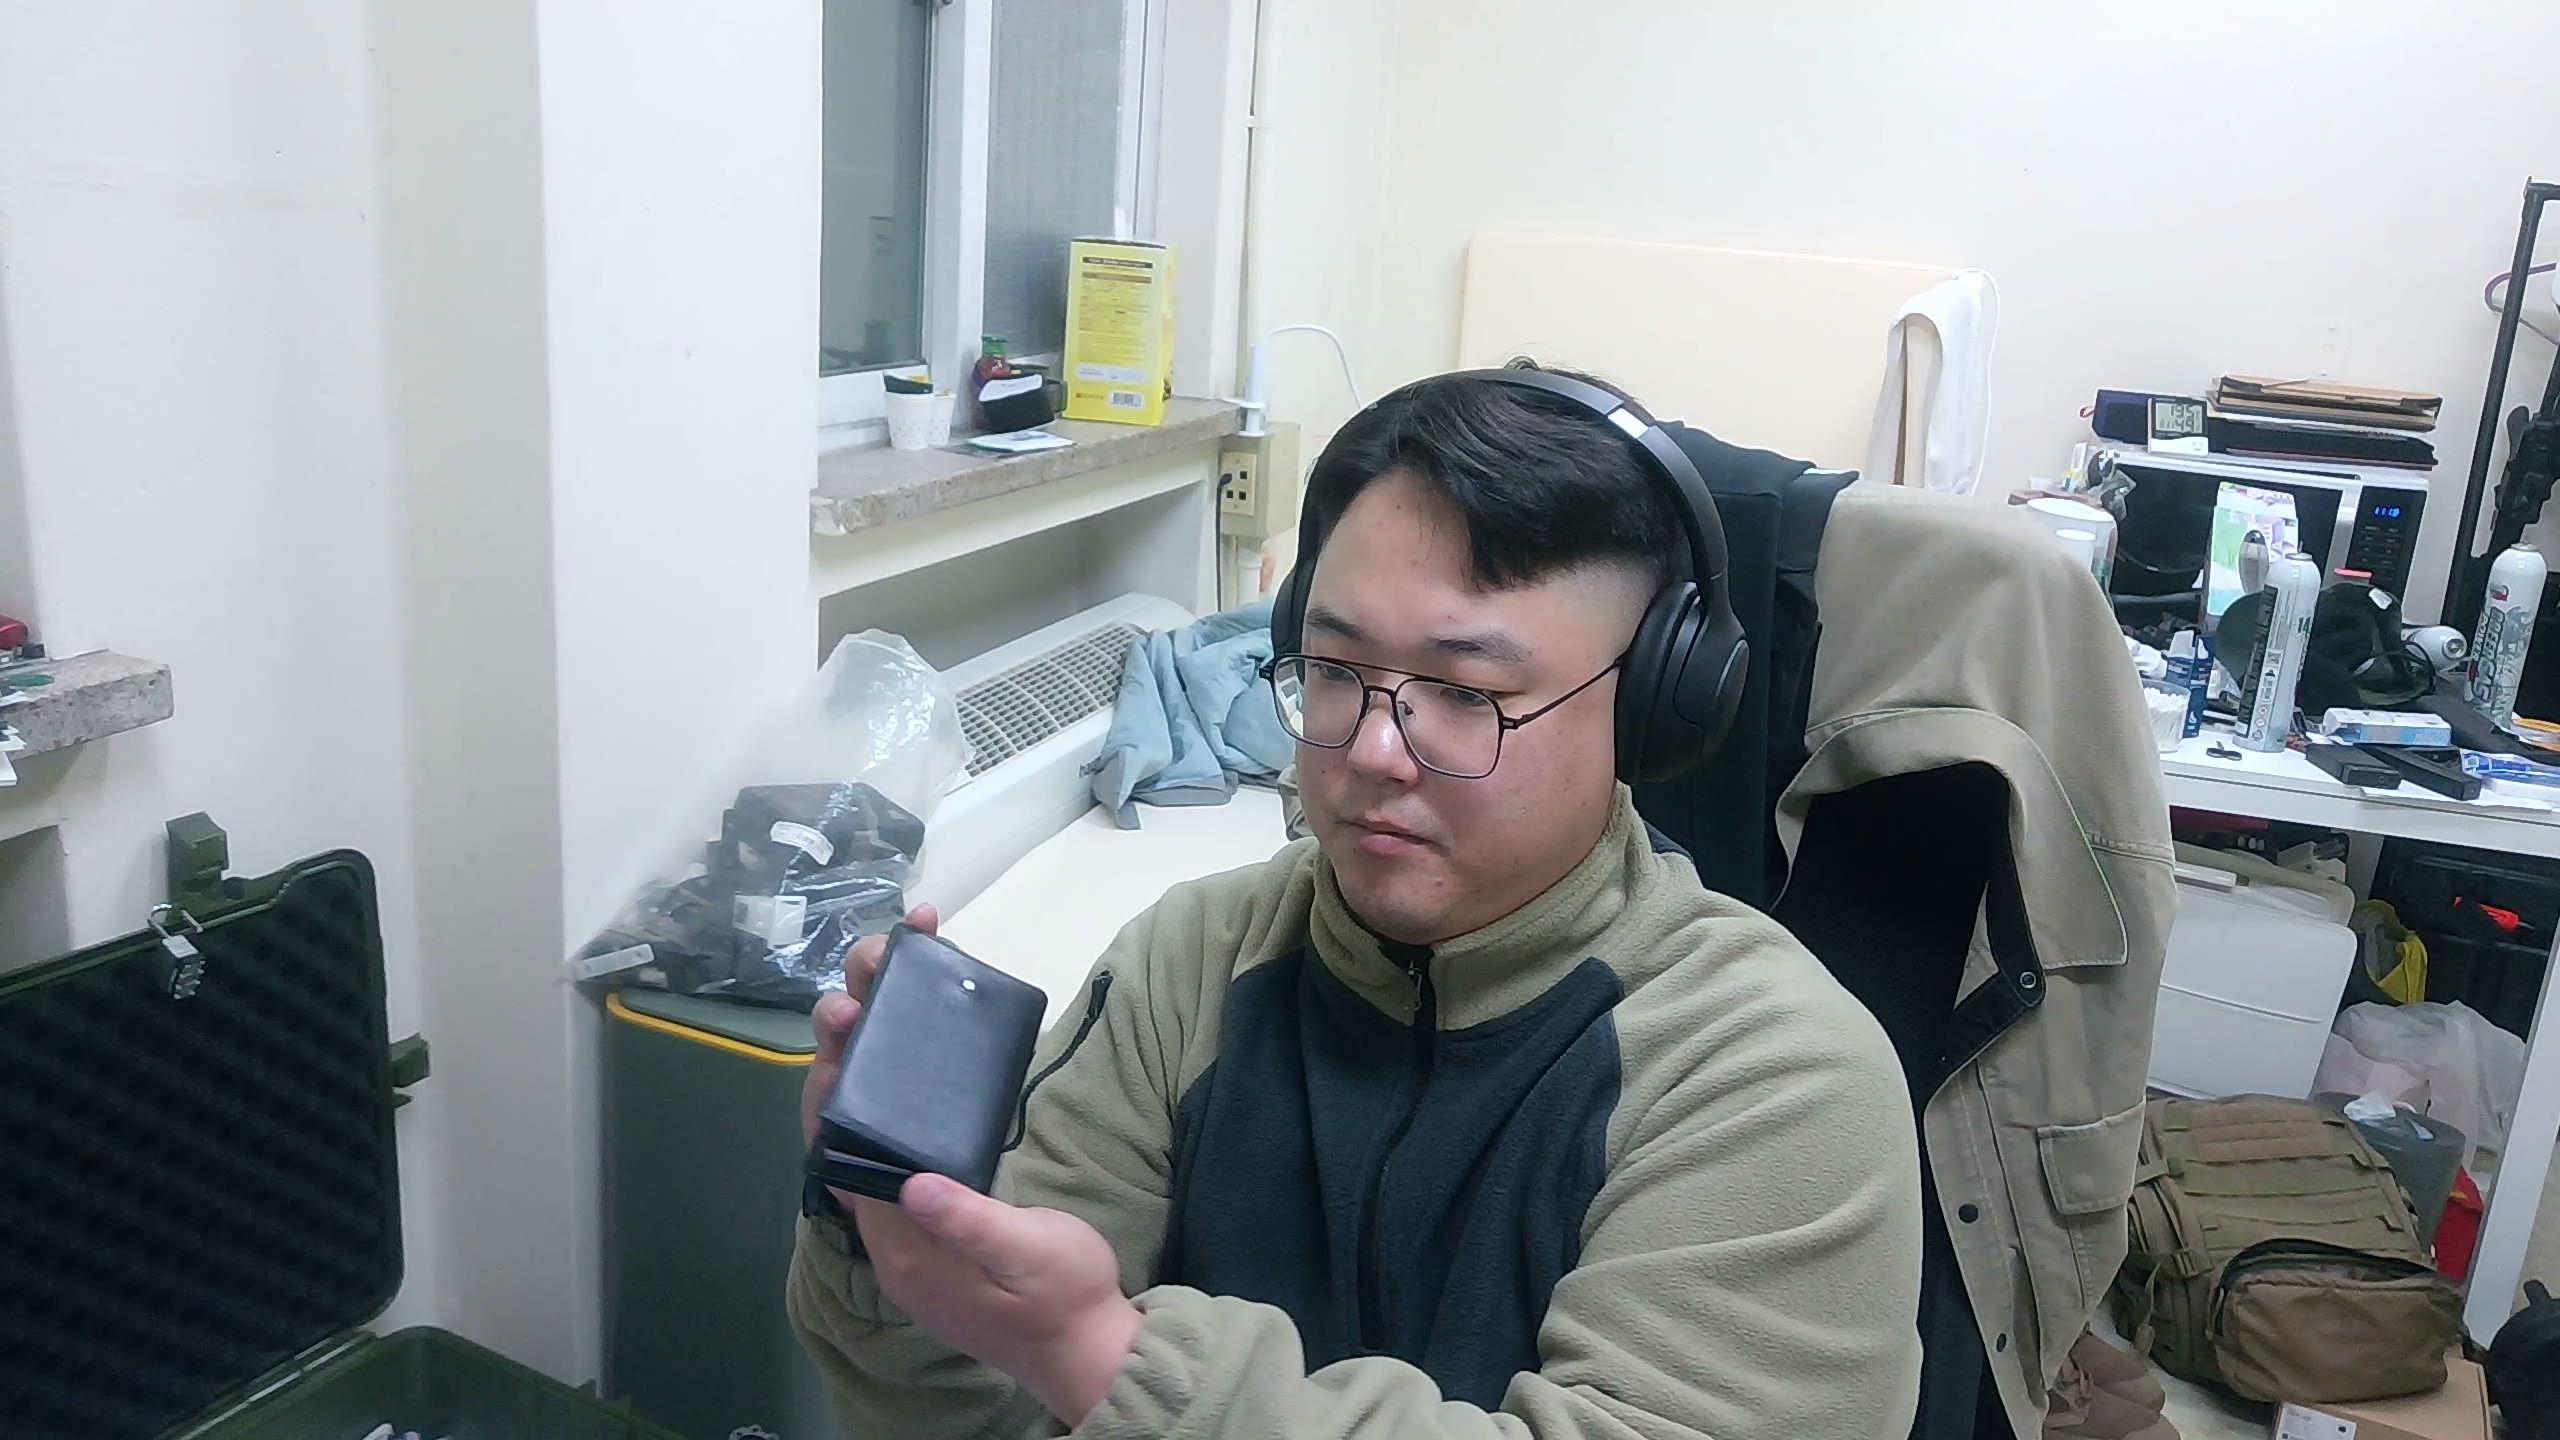Wallet: (805, 920, 1051, 1220)
